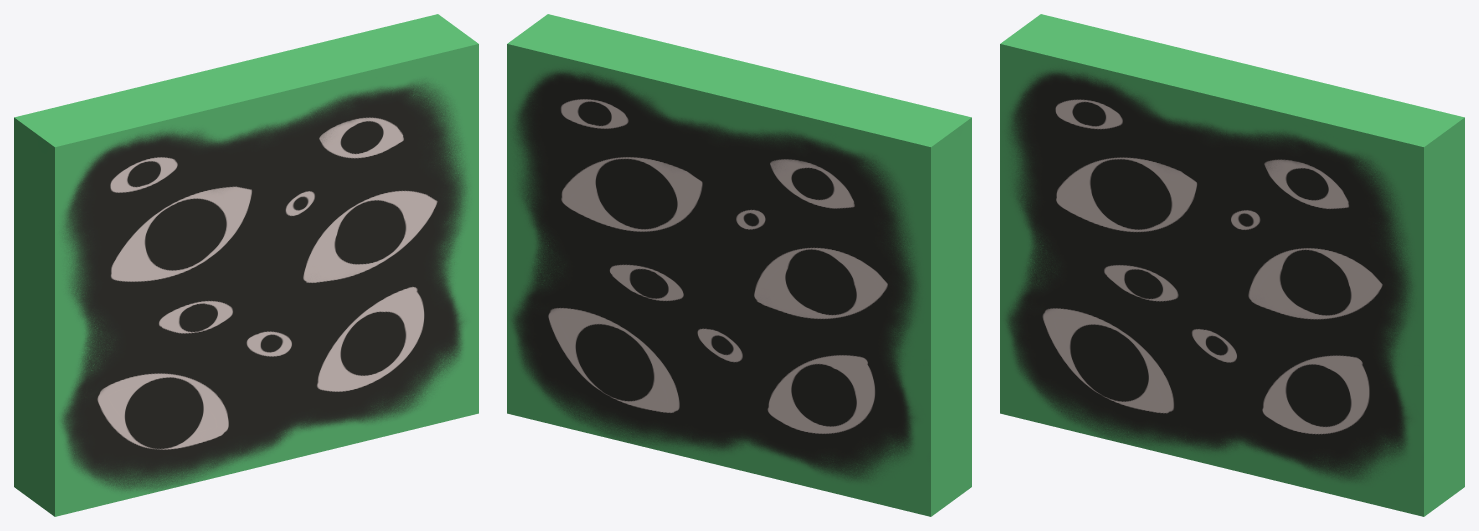
Rendered from Light_Wall_LongSide.fbx.
3 views of the same model, side by side, from view 1: azimuth 30°, elevation 25°; view 2: azimuth 150°, elevation 25°; view 3: azimuth 330°, elevation 25° (orthographic).
Parts seen in each view (by area): view 1: Light_Wall_LongSide; view 2: Light_Wall_LongSide; view 3: Light_Wall_LongSide.
Part boxes in pixels (bbox=[...]): Light_Wall_LongSide: bbox=[14, 14, 478, 516]; Light_Wall_LongSide: bbox=[507, 14, 971, 516]; Light_Wall_LongSide: bbox=[1000, 14, 1464, 516].
Size of the model in its own units: 180 by 150 by 30.
1 material, 1 textured.
